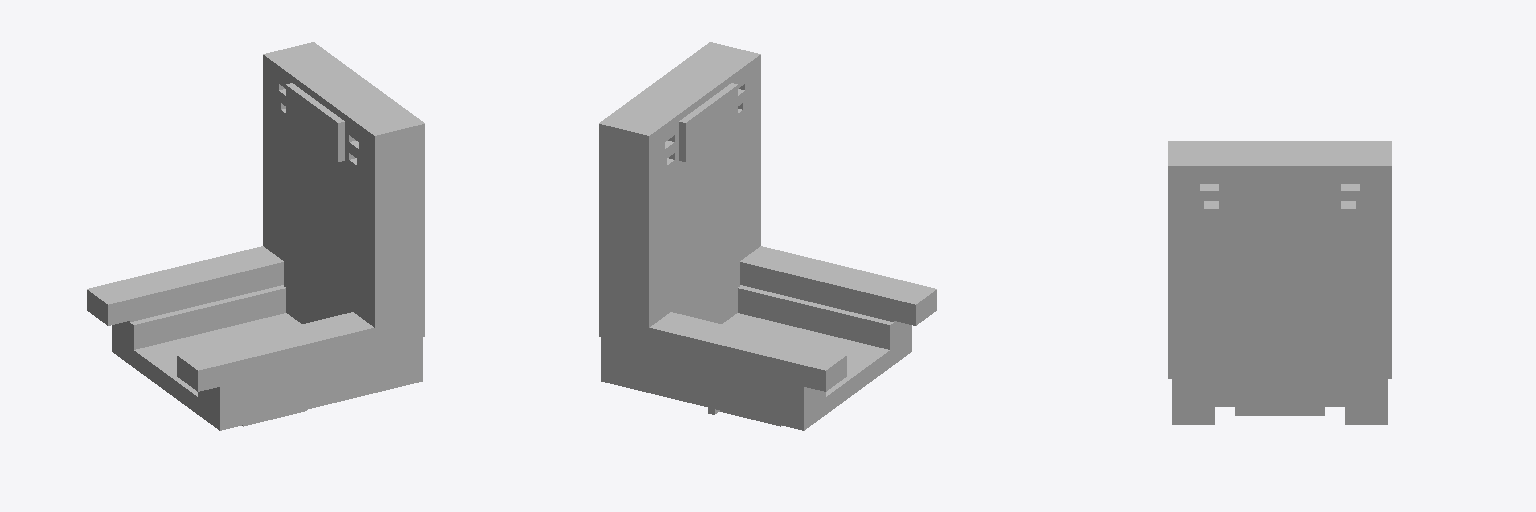
Rendered from sillon sillota.obj.
The picture shows the model from 3 angles: view 1: azimuth 30°, elevation 25°; view 2: azimuth 150°, elevation 25°; view 3: azimuth 270°, elevation 25°; orthographic projection.
Visible parts, largest first — view 1: object 1; view 2: object 1; view 3: object 1.
Boxes of the visible parts, box(x1,y1,x2,y2) form: object 1: box(87, 42, 424, 430); object 1: box(599, 42, 936, 430); object 1: box(1168, 141, 1391, 424).
Size of the model in its own units: 6.7 by 8.2 by 5.7.